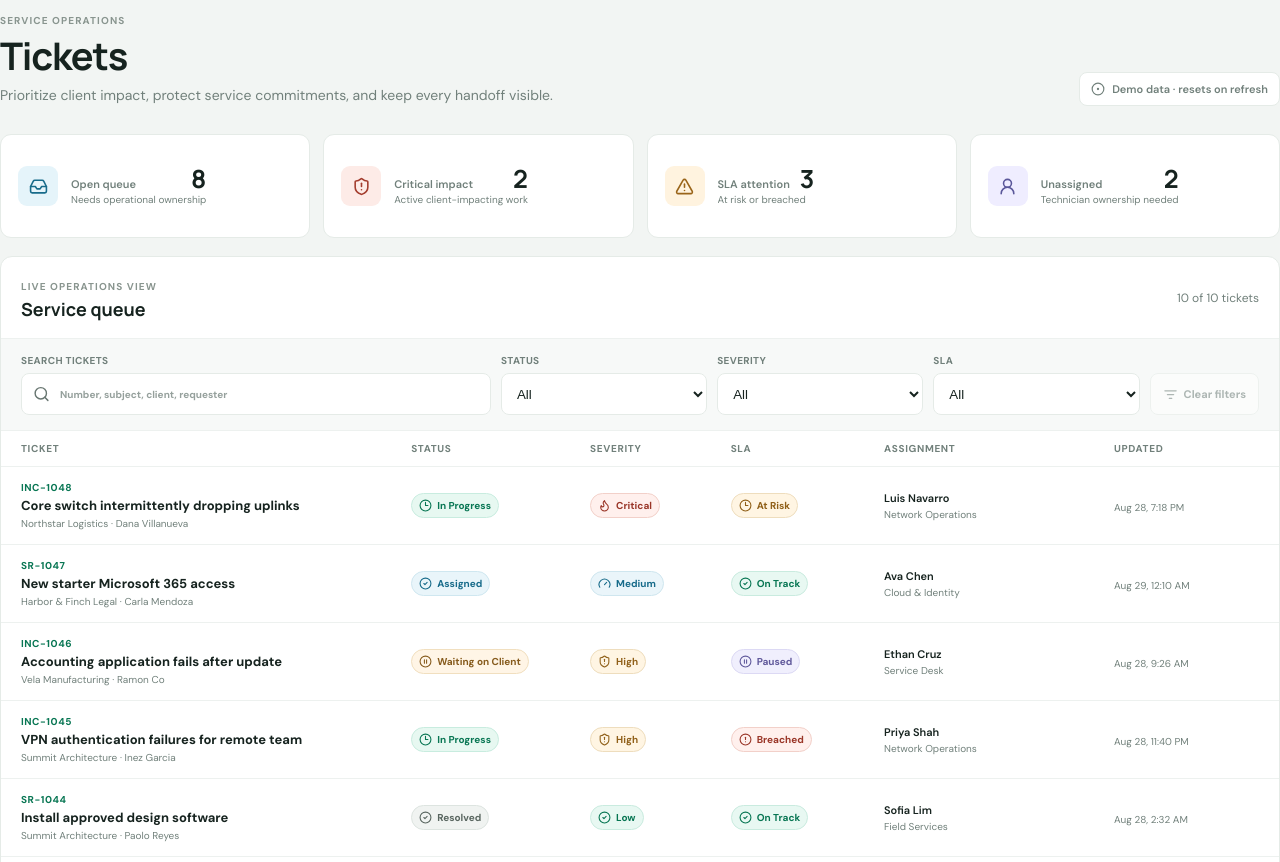
Test: TicketsPage › validates and adds an internal note to activity history
The image size is (1280, 862).
Click the button with aria-label "Open INC-1048".
click(202, 506)  # box top-left (21, 481), bottom-right (383, 530)
(page scrolled)
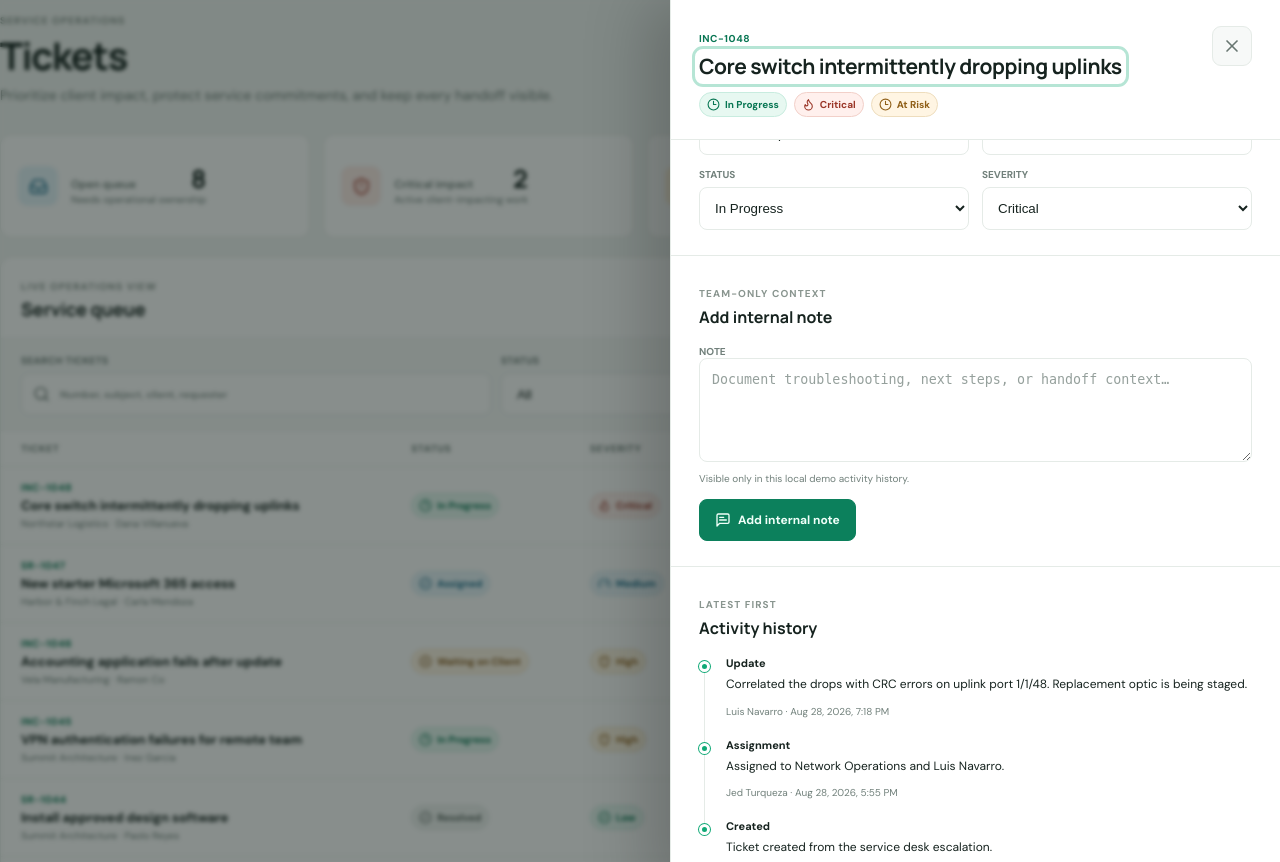
Click the button "Add internal note".
click(777, 520)  # box top-left (699, 499), bottom-right (856, 541)
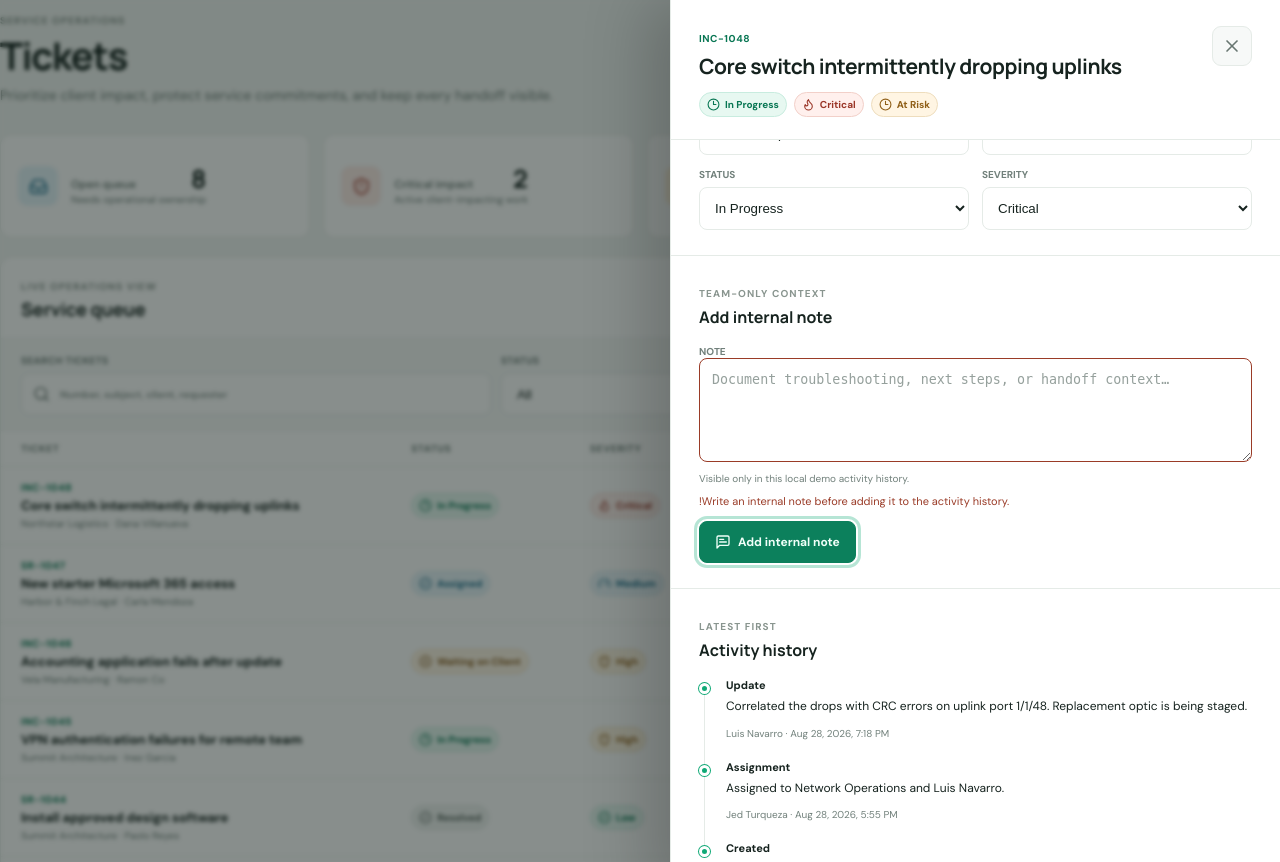
Now the text "Write an internal note before adding it to the activity history." is shown, box top-left (702, 494), bottom-right (1009, 508)
Type "Replacement optic dispatched; coordinate a 10:30 AM maintenance window." into the text box labelled "Note".
click(976, 410); type("Replacement optic dispatched; coordinate a 10:30 AM maintenance window.")  # box top-left (699, 358), bottom-right (1252, 462)
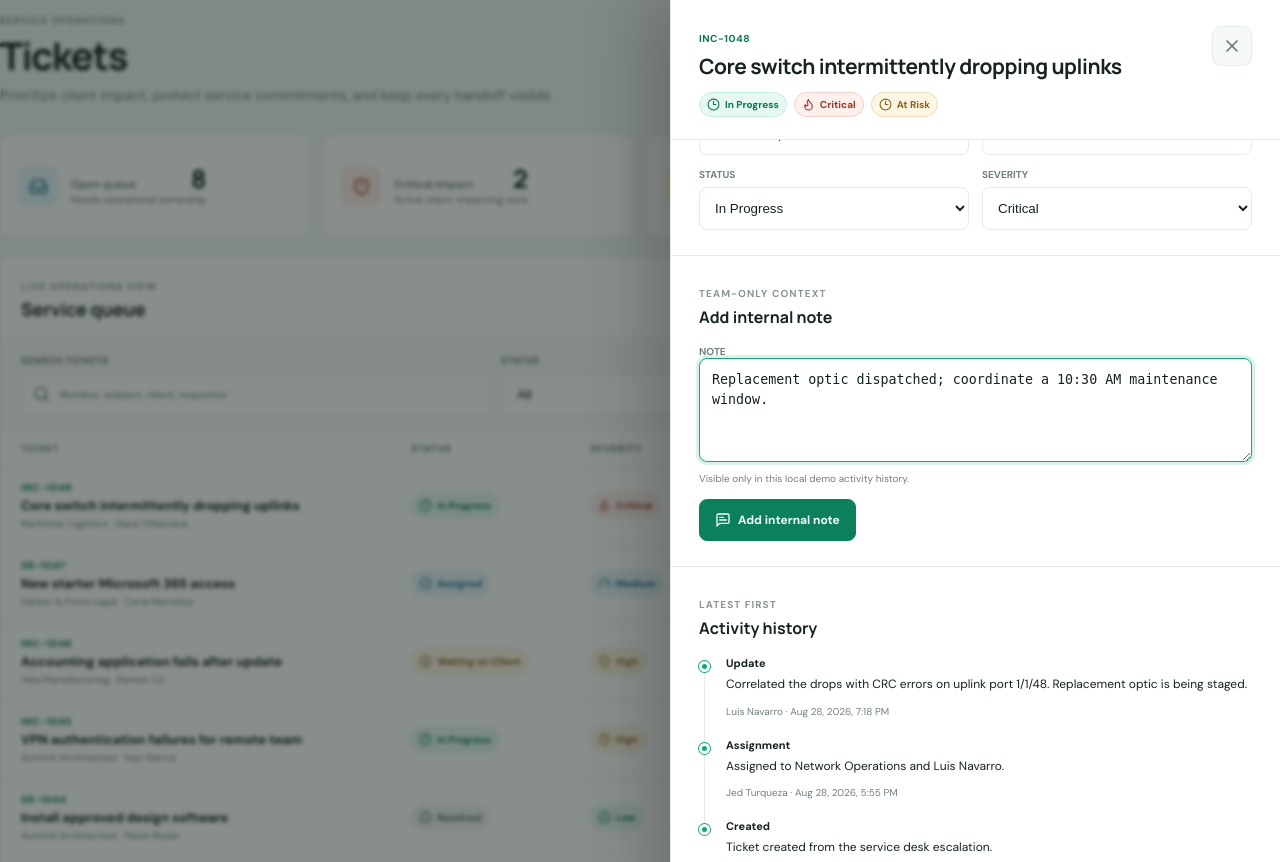
Click the button "Add internal note".
click(777, 520)  # box top-left (699, 499), bottom-right (856, 541)
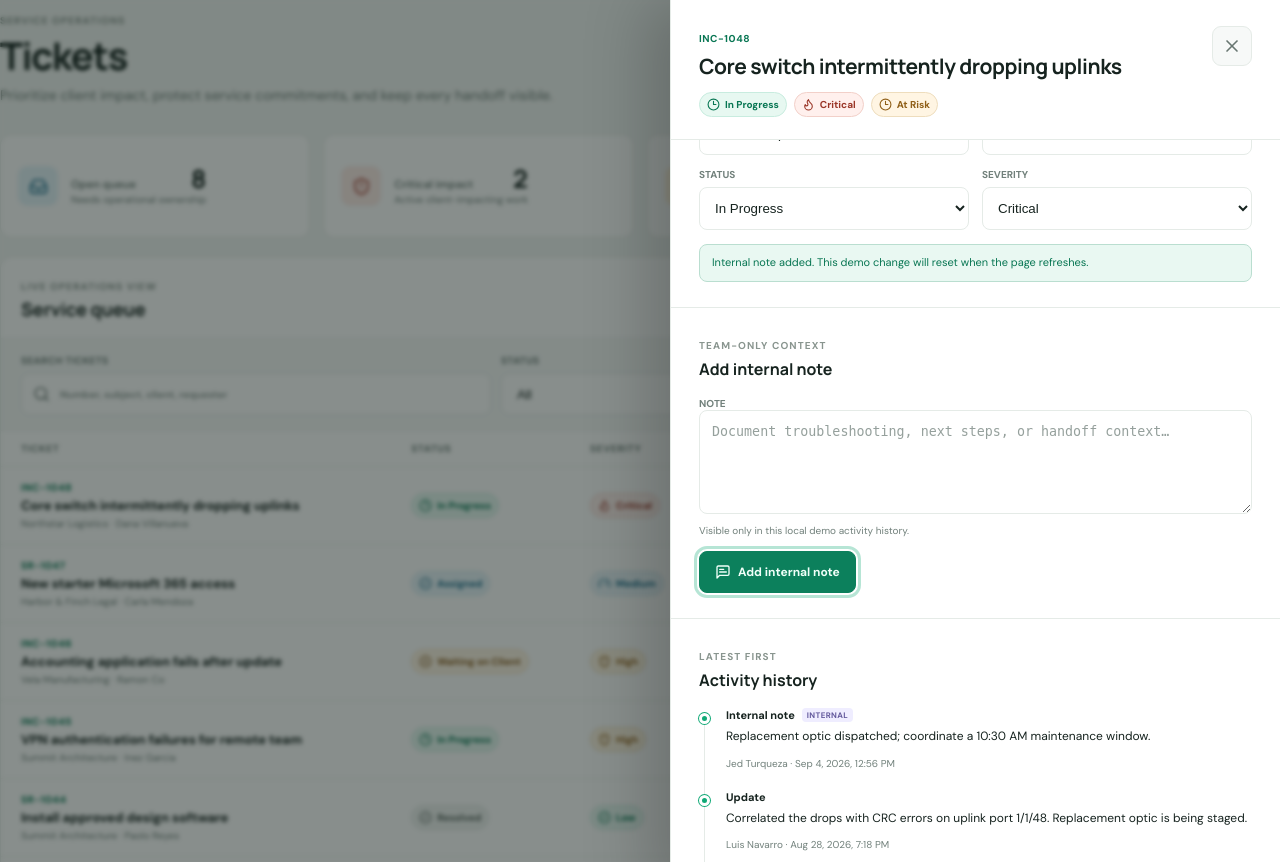
Now the text box labelled "Note" is empty, box top-left (699, 410), bottom-right (1252, 514)
Now the text "Replacement optic dispatched; coordinate a 10:30 AM maintenance window." is shown, box top-left (726, 728), bottom-right (1150, 744)
Now the text "Internal" is shown, box top-left (802, 708), bottom-right (853, 722)
